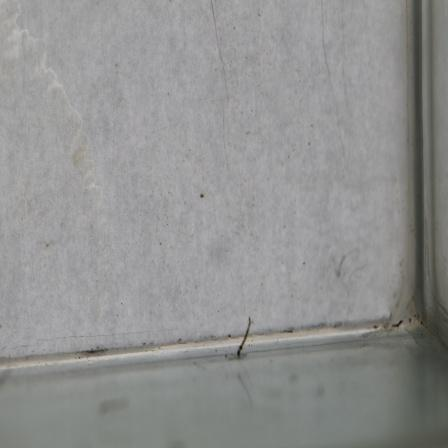Jentik-Nyamuk: (233, 316, 261, 361)
